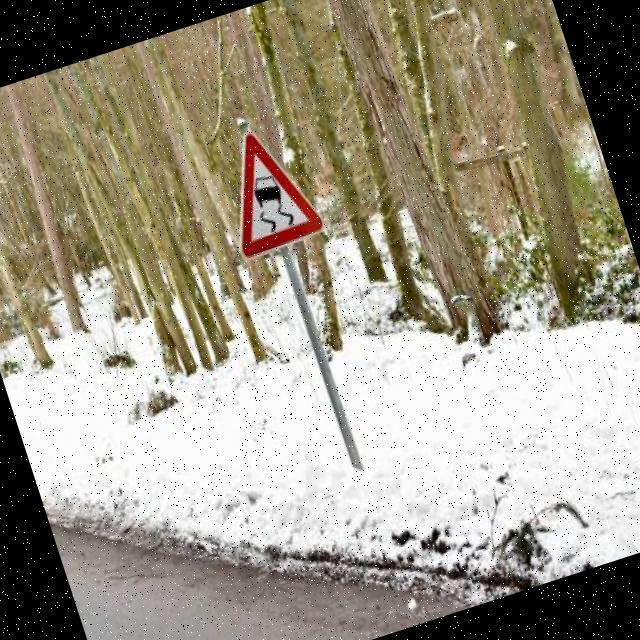road_slippery: (185, 104, 338, 277)
